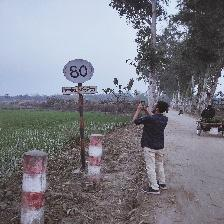Speed-limit: (62, 59, 97, 96)
